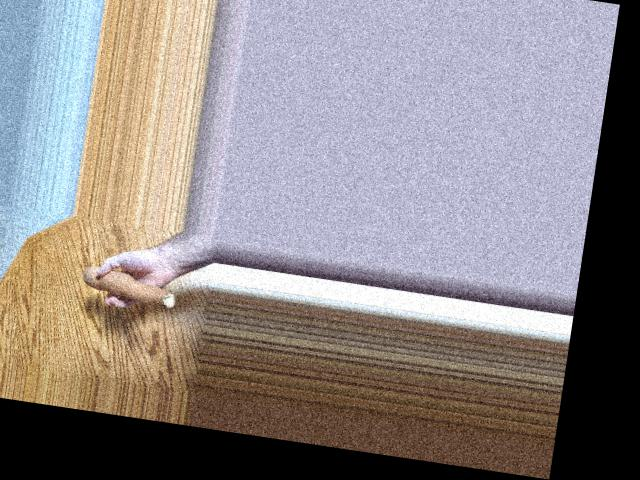sweet_potato: (82, 264, 176, 305)
